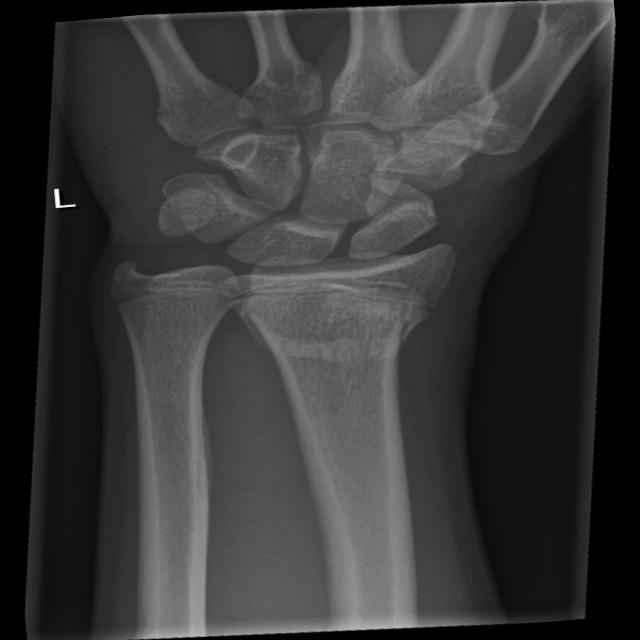fracture: (215, 248, 472, 340), (99, 264, 257, 329)
